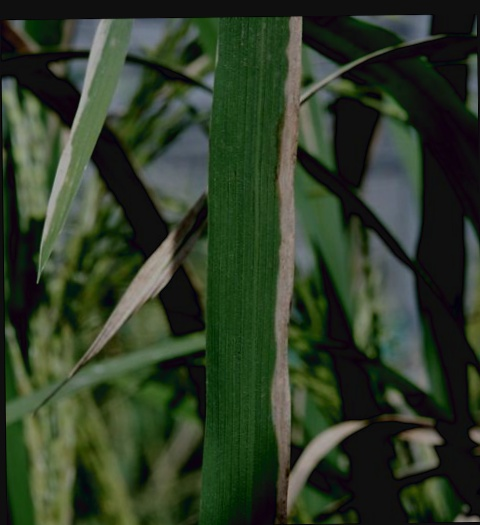Leaf_Blast: (266, 21, 307, 525)
